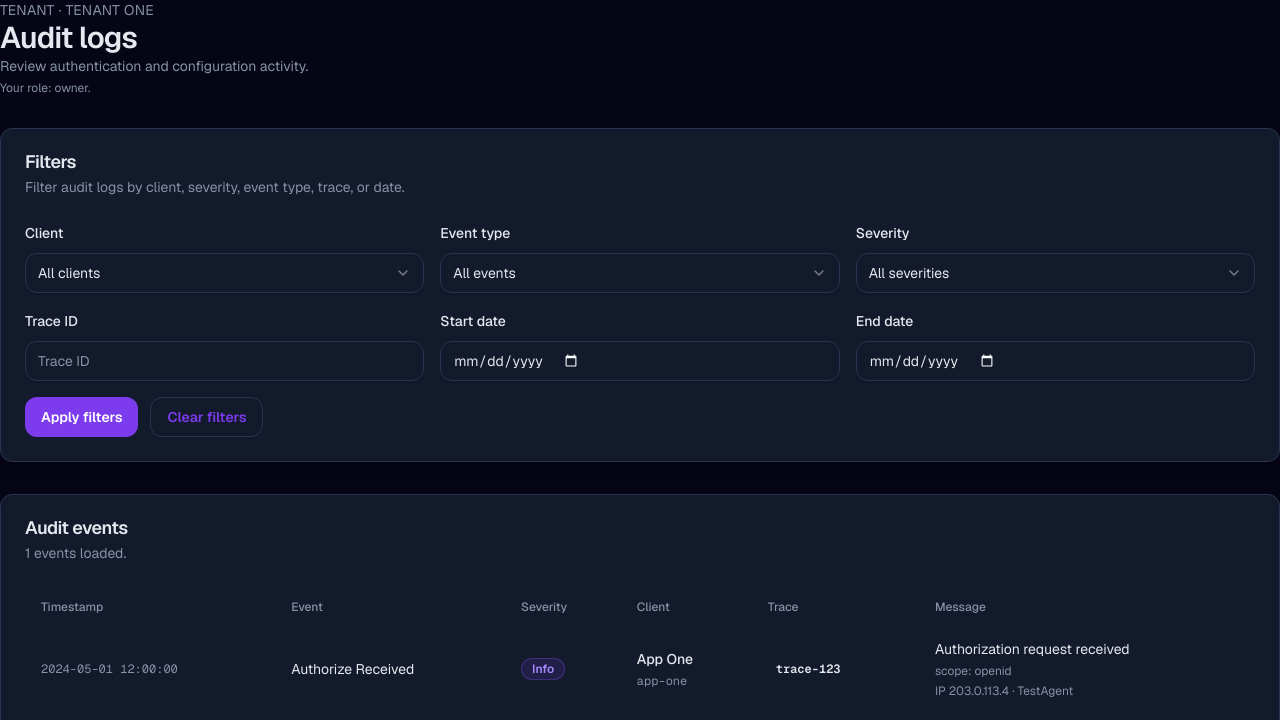
Test: AuditLogsClient › applies filter selections
Step 1. Click the button "Apply filters" → (82, 417), box top-left (25, 397), bottom-right (138, 437)
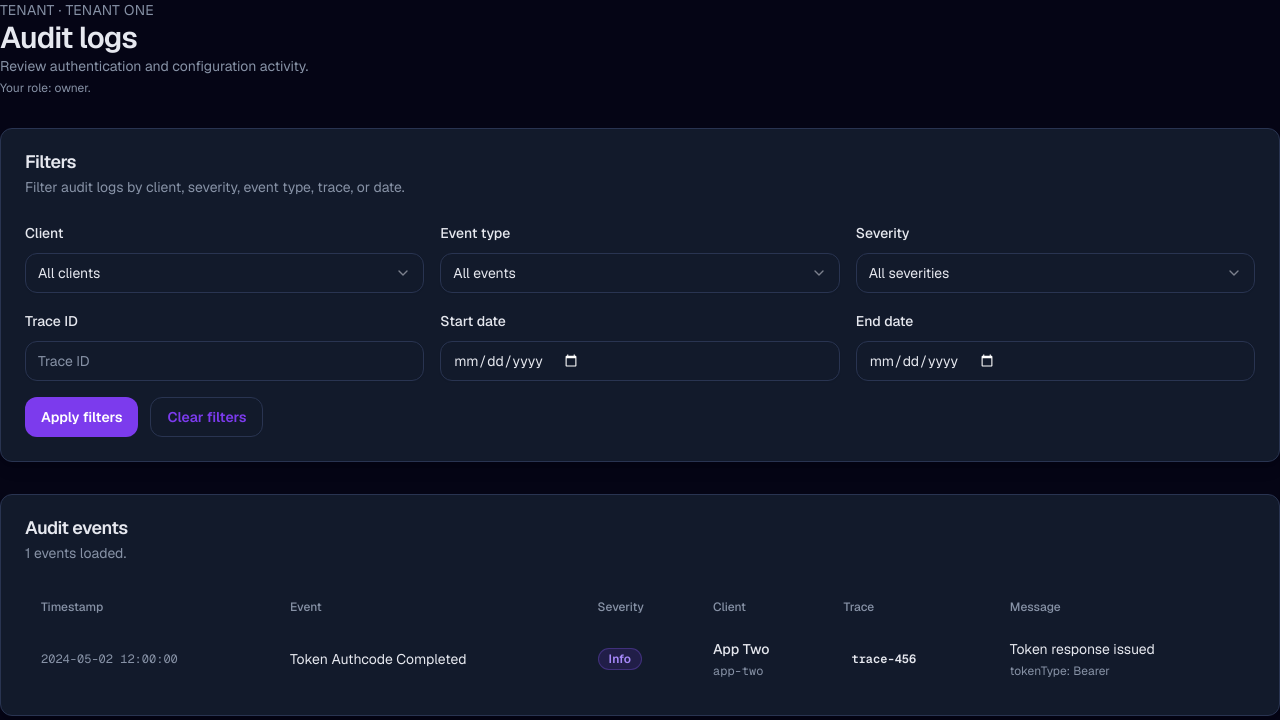
Result: the text "Token response issued" is shown at top-left (1010, 640), bottom-right (1155, 658)
